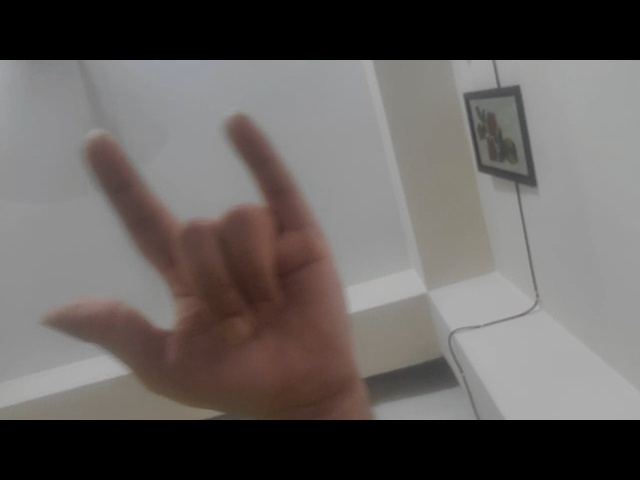I love you: (25, 101, 393, 415)
